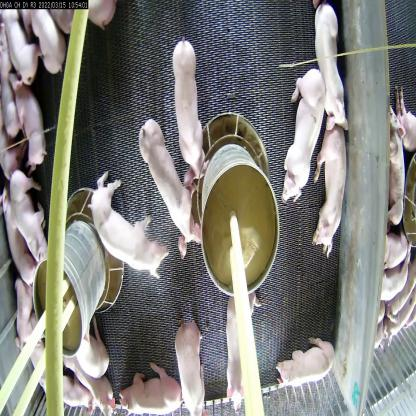Pig: (89, 167, 167, 291), (163, 40, 224, 170), (214, 292, 268, 415), (148, 117, 197, 249), (2, 157, 55, 279), (284, 64, 326, 210), (308, 4, 354, 134), (314, 120, 358, 250), (274, 323, 344, 395), (173, 301, 211, 416), (116, 356, 182, 416), (12, 79, 46, 168), (24, 0, 63, 70), (67, 319, 110, 382), (5, 8, 38, 81), (69, 360, 114, 412)
